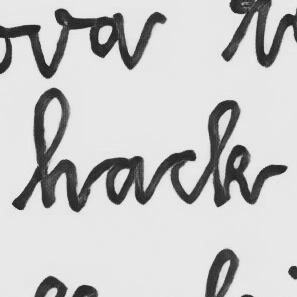a: (103, 152, 149, 206)
c: (166, 147, 200, 207)
h: (31, 85, 85, 213)
k: (204, 98, 254, 209)
